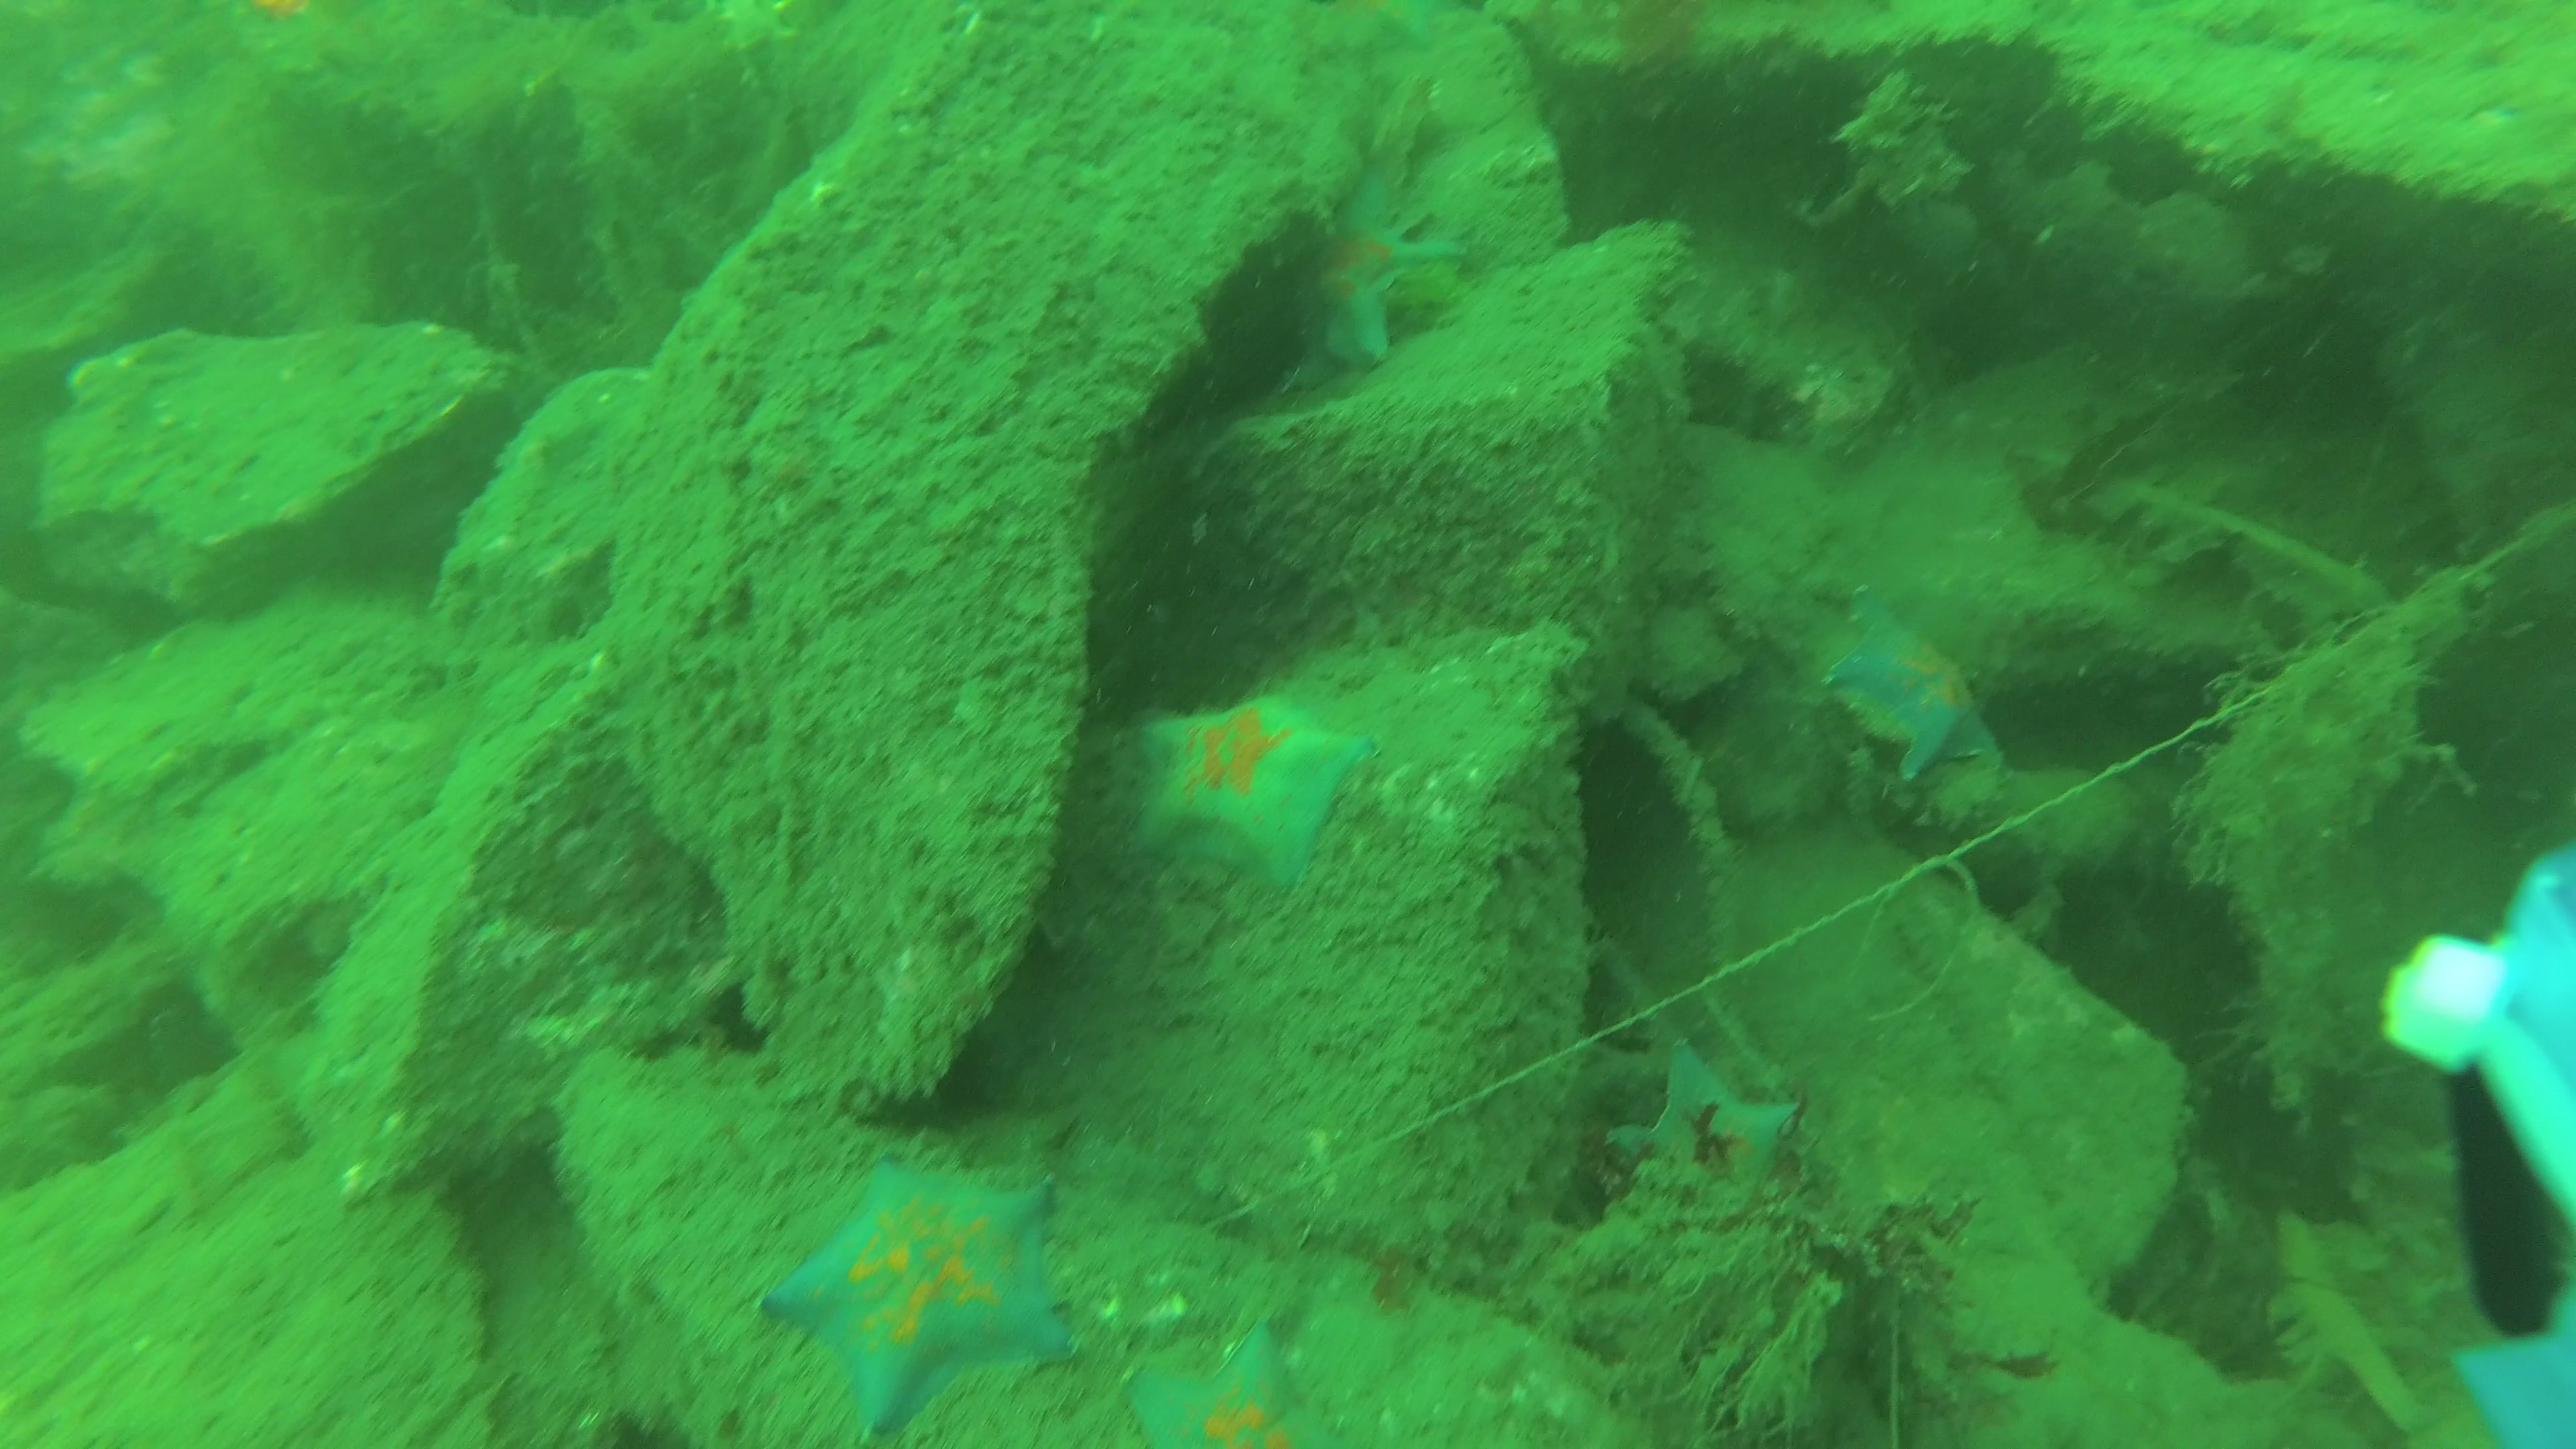starfish: (775, 1164, 1079, 1421), (1143, 694, 1362, 886), (1614, 1049, 1798, 1217), (1320, 172, 1458, 363), (1815, 630, 1999, 773), (1136, 1329, 1339, 1449)
